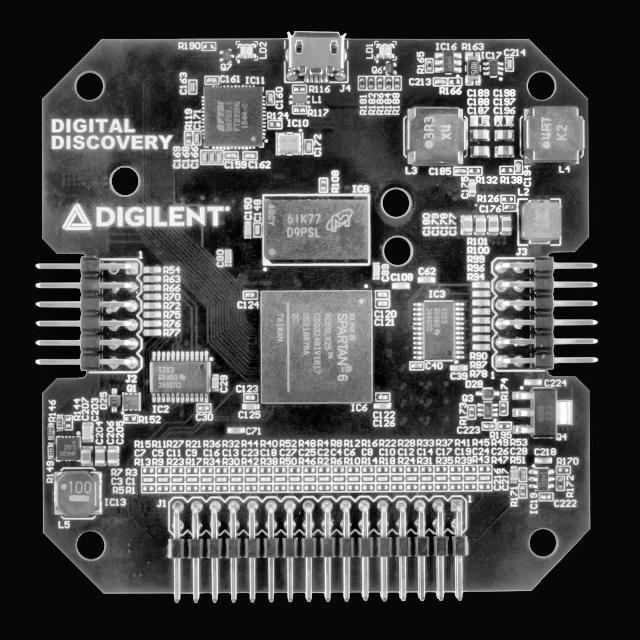PCB: (34, 39, 600, 602)
